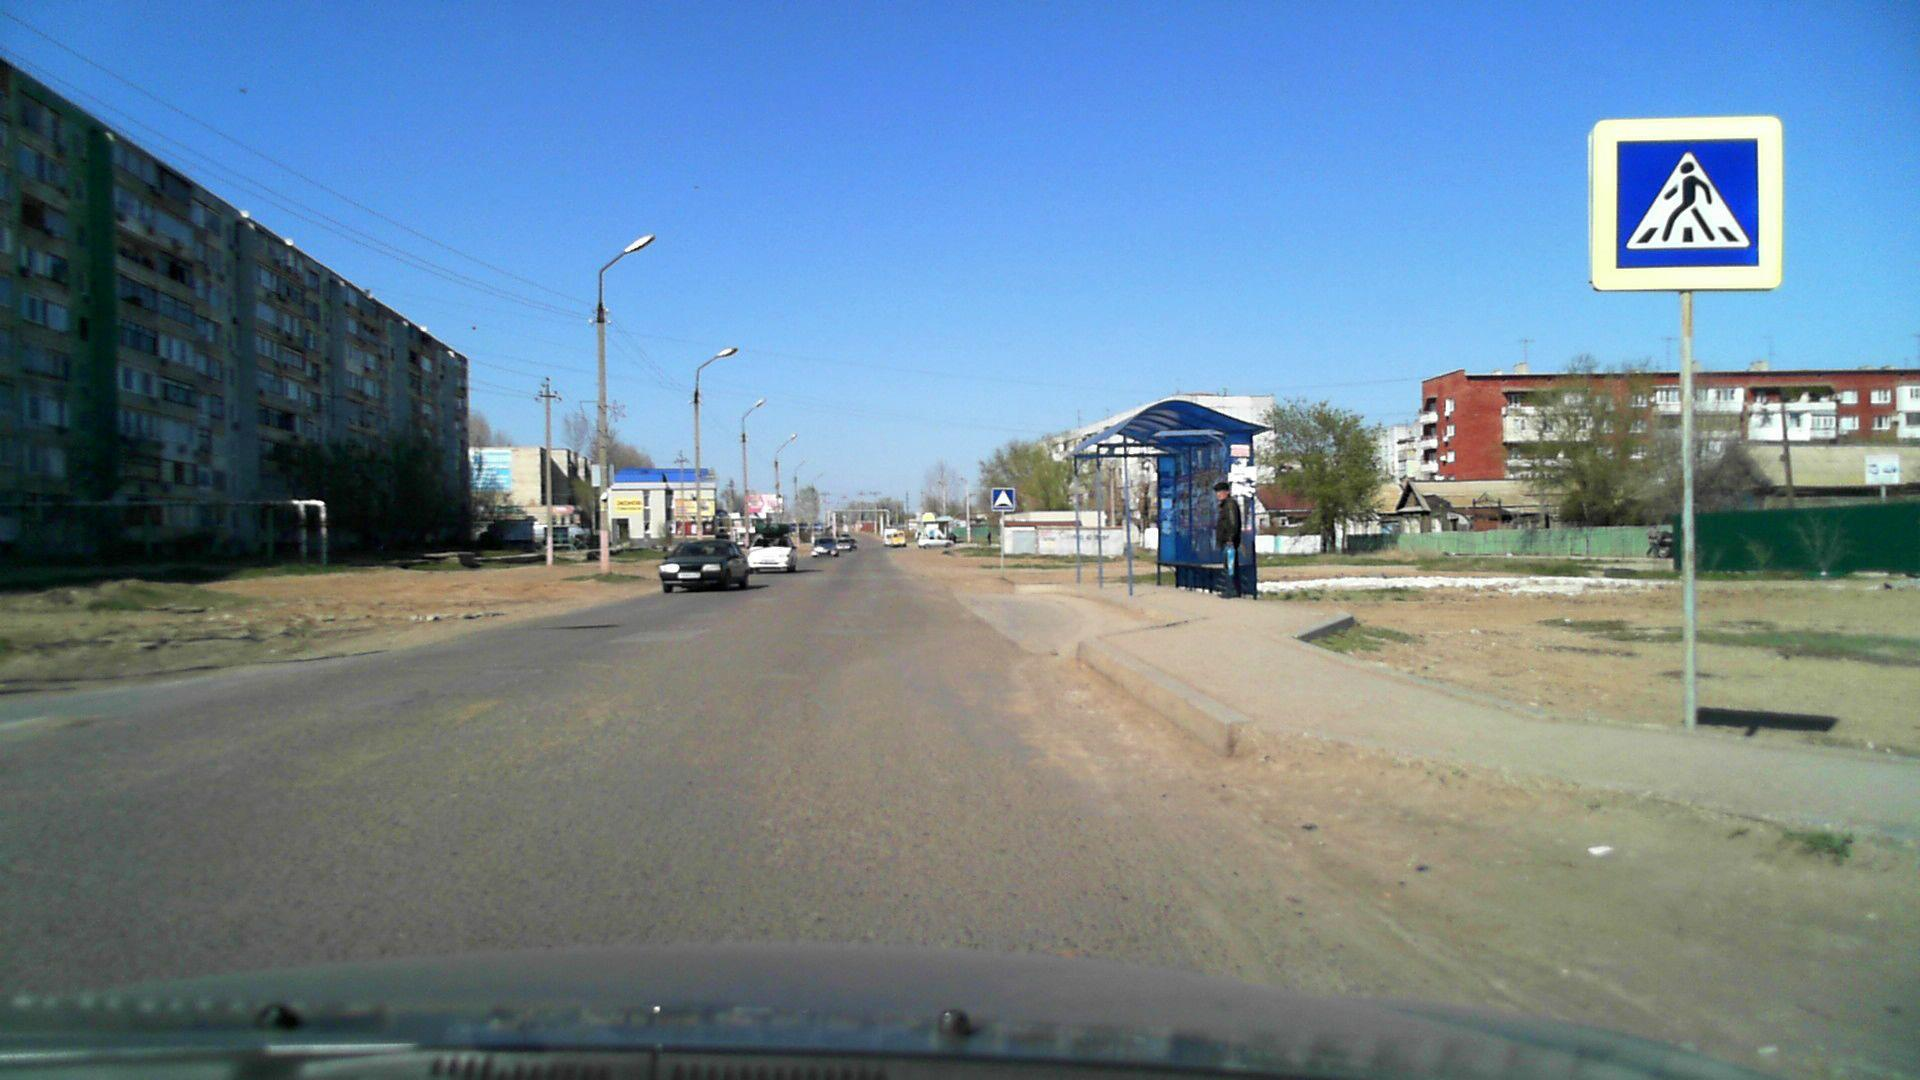5_19_1: (1607, 128, 1764, 274)
5_20: (992, 488, 1015, 513)
